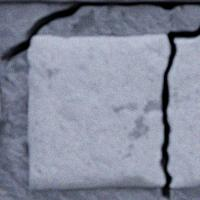brick: (0, 0, 199, 2)
broken_brick: (29, 35, 169, 188), (168, 37, 199, 186)
crack: (0, 1, 199, 65), (160, 24, 199, 199)
